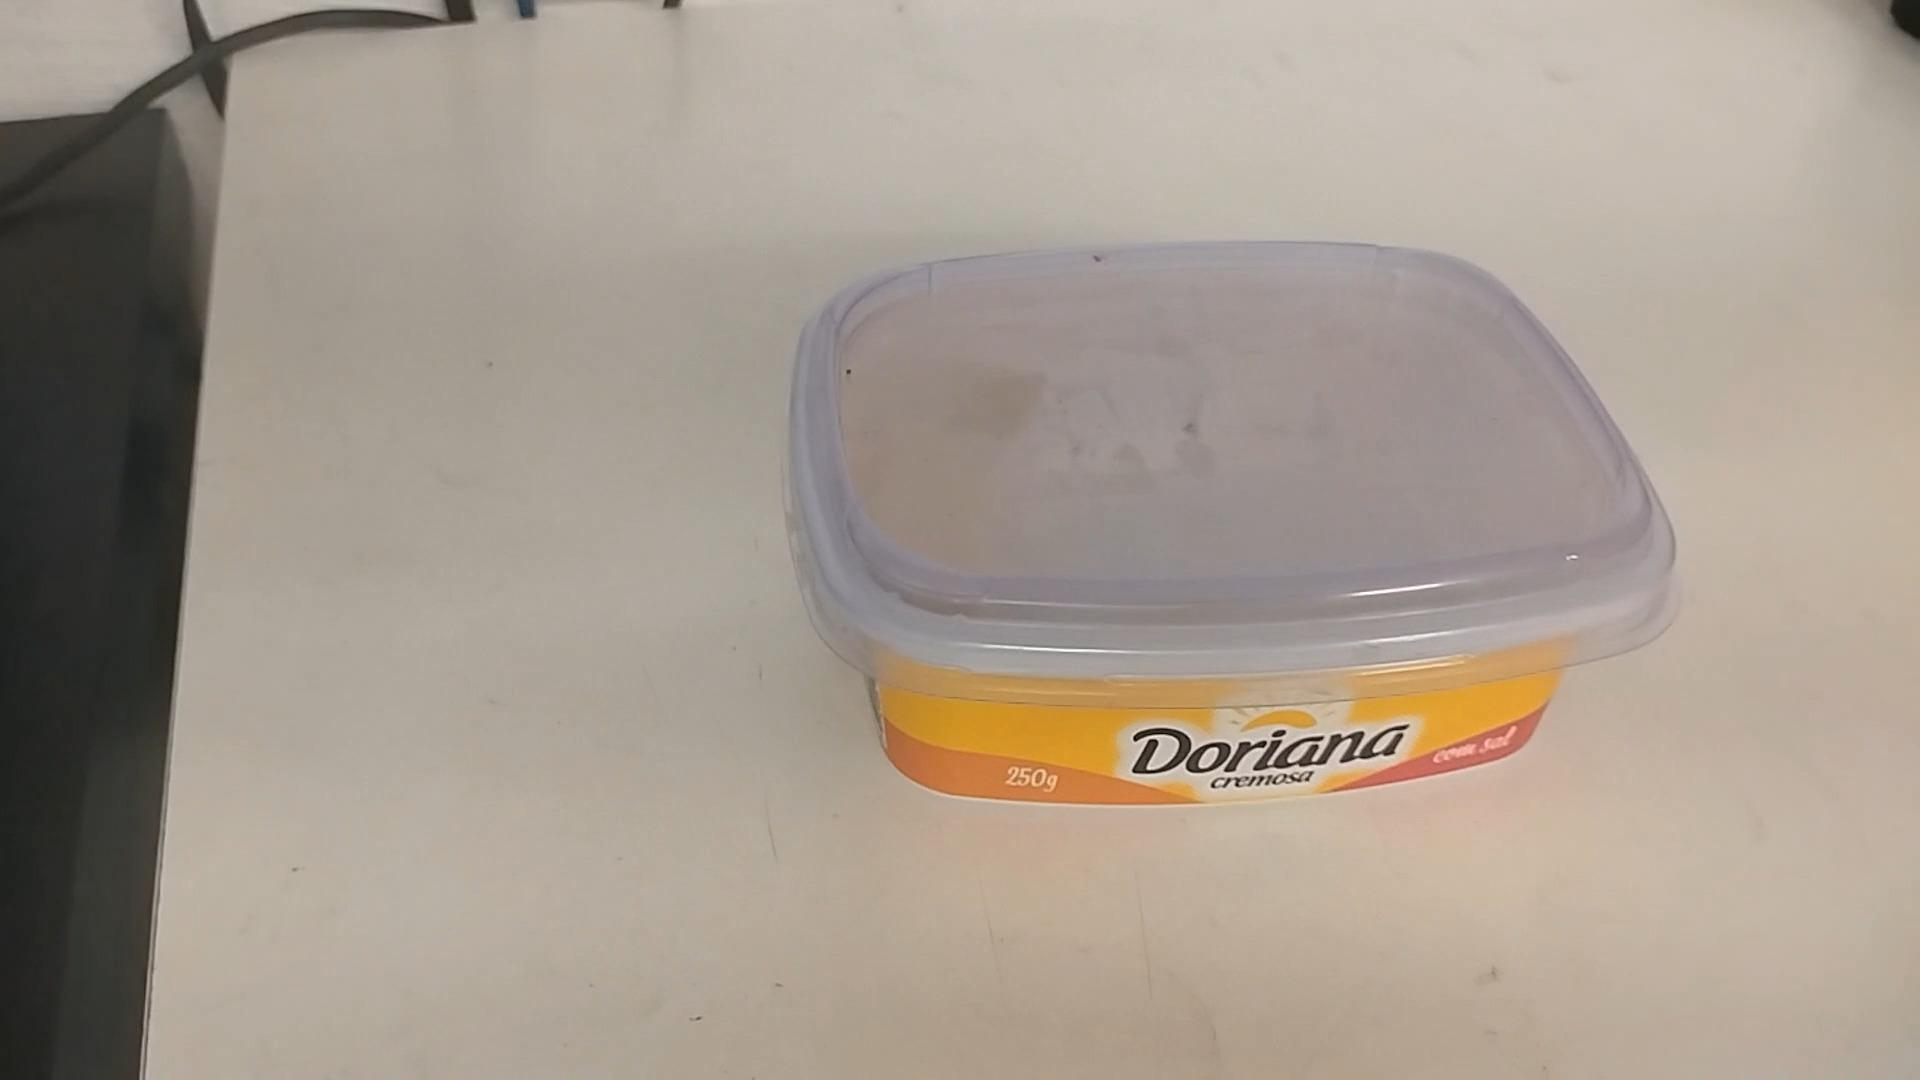butter: (782, 247, 1680, 810)
